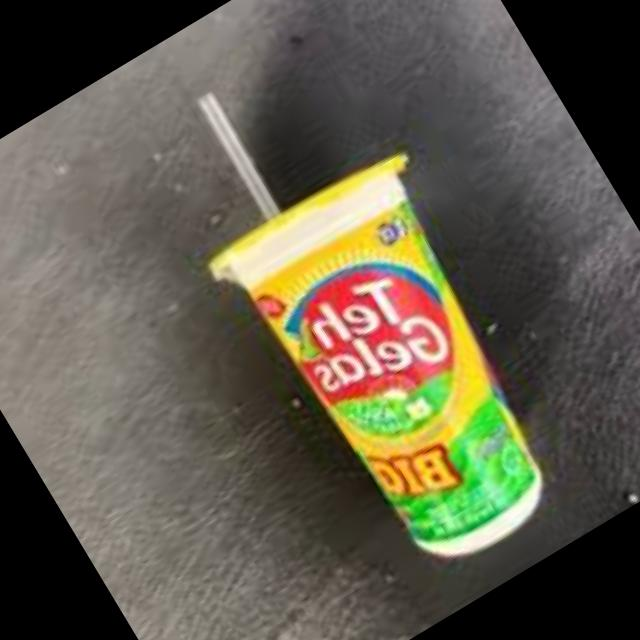GelasPlastik: (200, 137, 604, 597)
